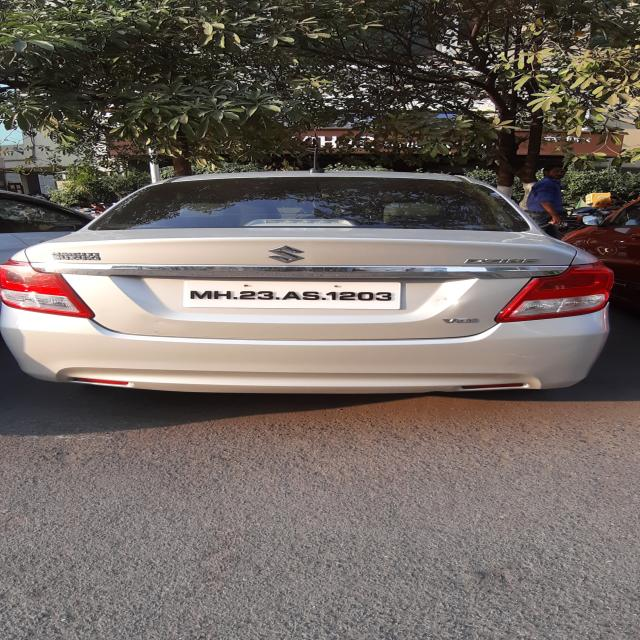Number-Plate: (183, 281, 403, 309)
